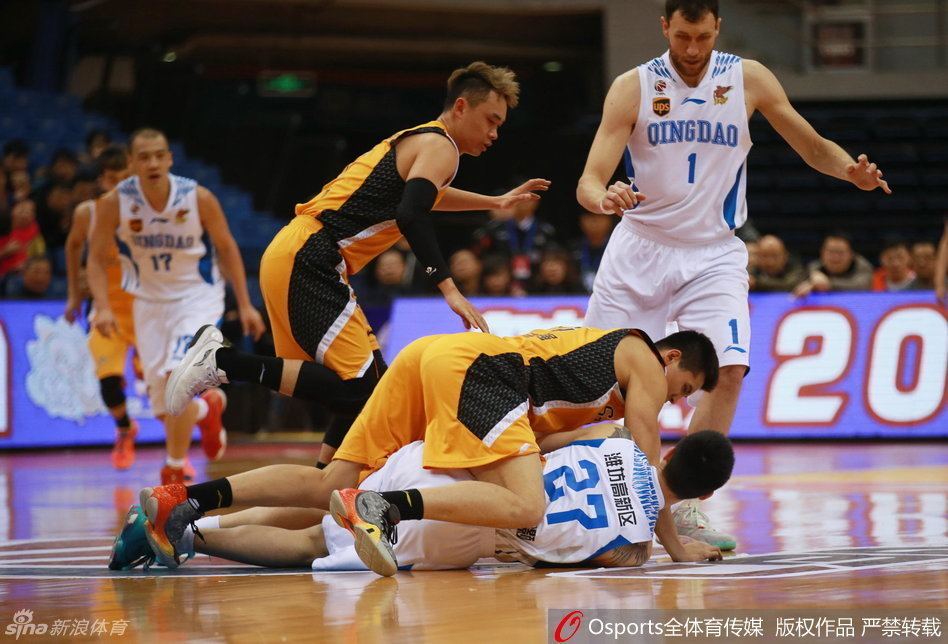10+: (1, 7, 948, 555)
down: (104, 424, 768, 569), (370, 292, 708, 433)
